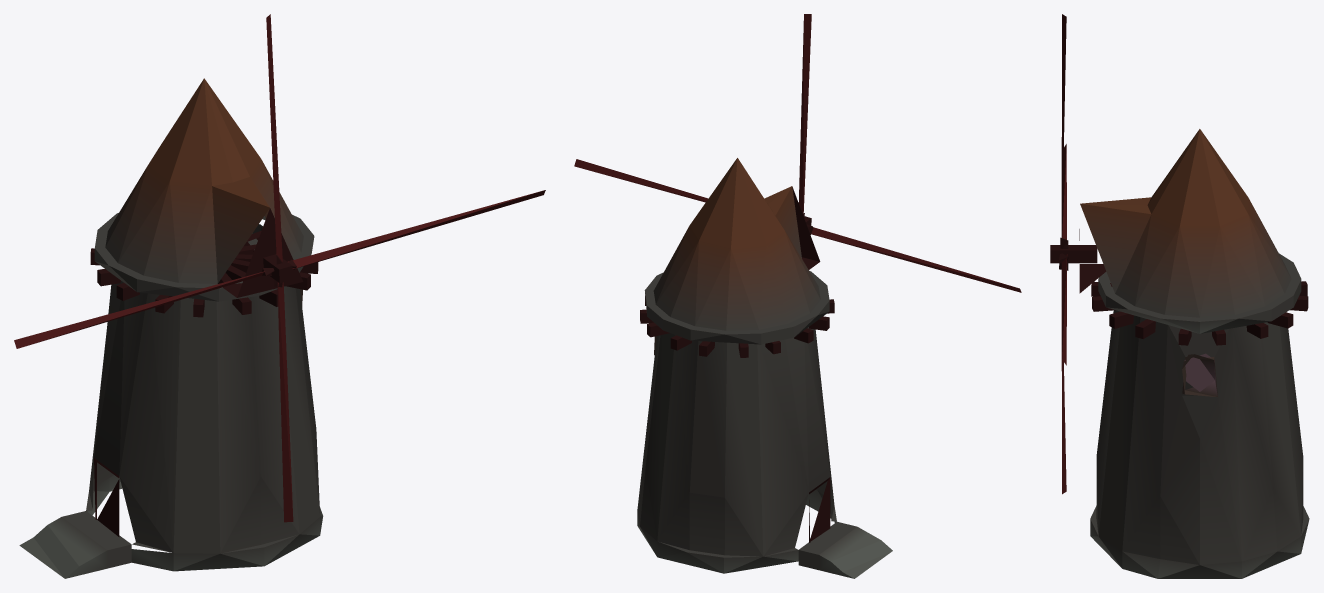
File: windmill.lod2.glb
The picture shows the model from 3 angles, left to right: view 1: azimuth 30°, elevation 25°; view 2: azimuth 150°, elevation 25°; view 3: azimuth 270°, elevation 25°; orthographic projection. The views are drawn at different scales.
Parts seen in each view (by area): view 1: Object_4; view 2: Object_4; view 3: Object_4.
Boxes of the visible parts, left/top/right/bottom form: Object_4: left=14, top=14, right=545, bottom=578; Object_4: left=574, top=14, right=1021, bottom=578; Object_4: left=1050, top=14, right=1309, bottom=578.
Bounding box in the file's own units: 11.81 × 12 × 5.46.
